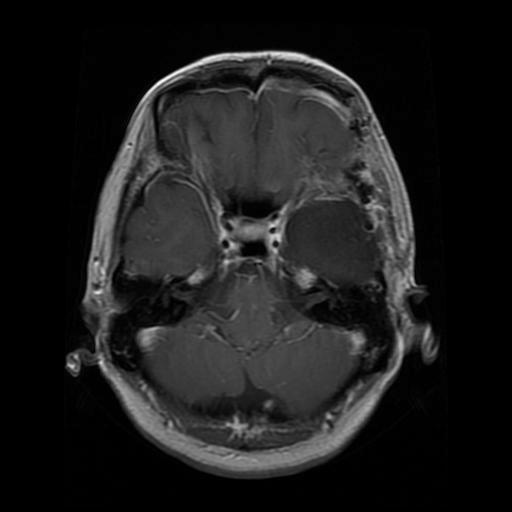Tumour-Glioma: (289, 191, 386, 277)
